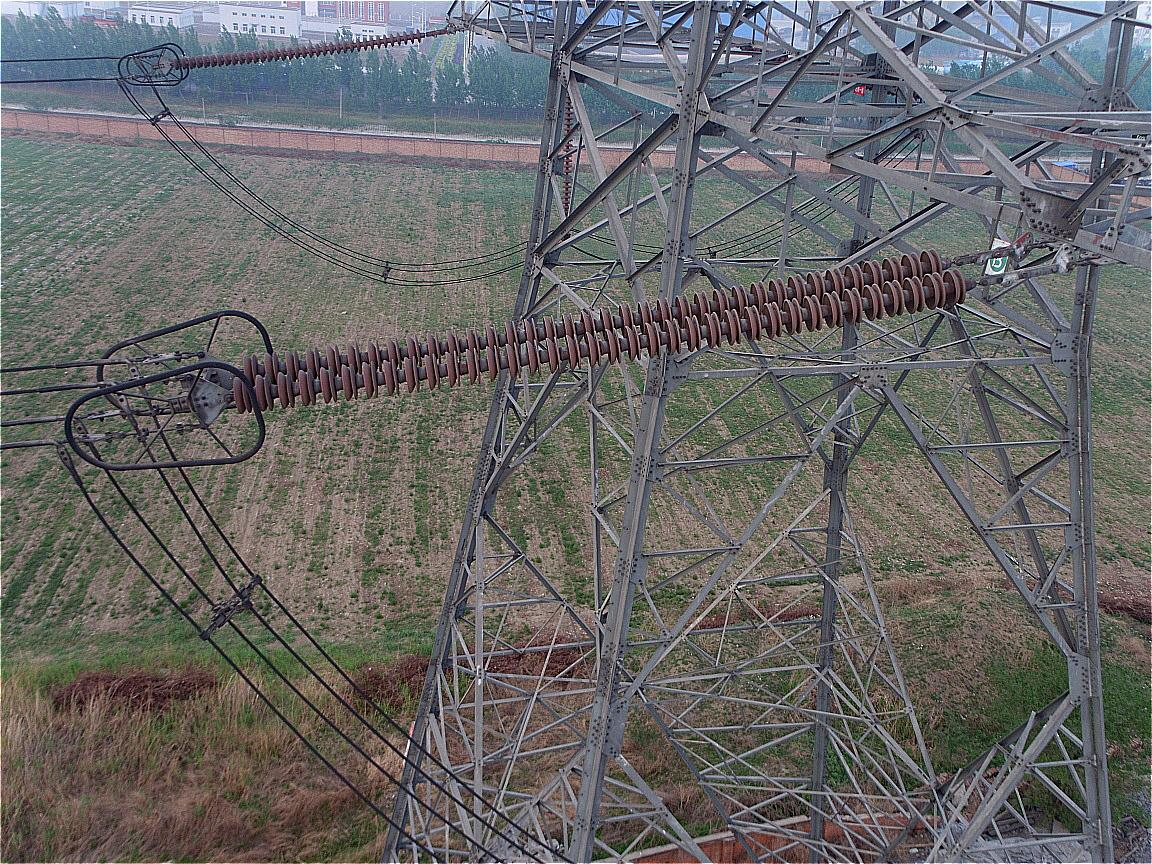insultor1: (175, 29, 423, 72)
insultor2: (234, 249, 968, 412)
